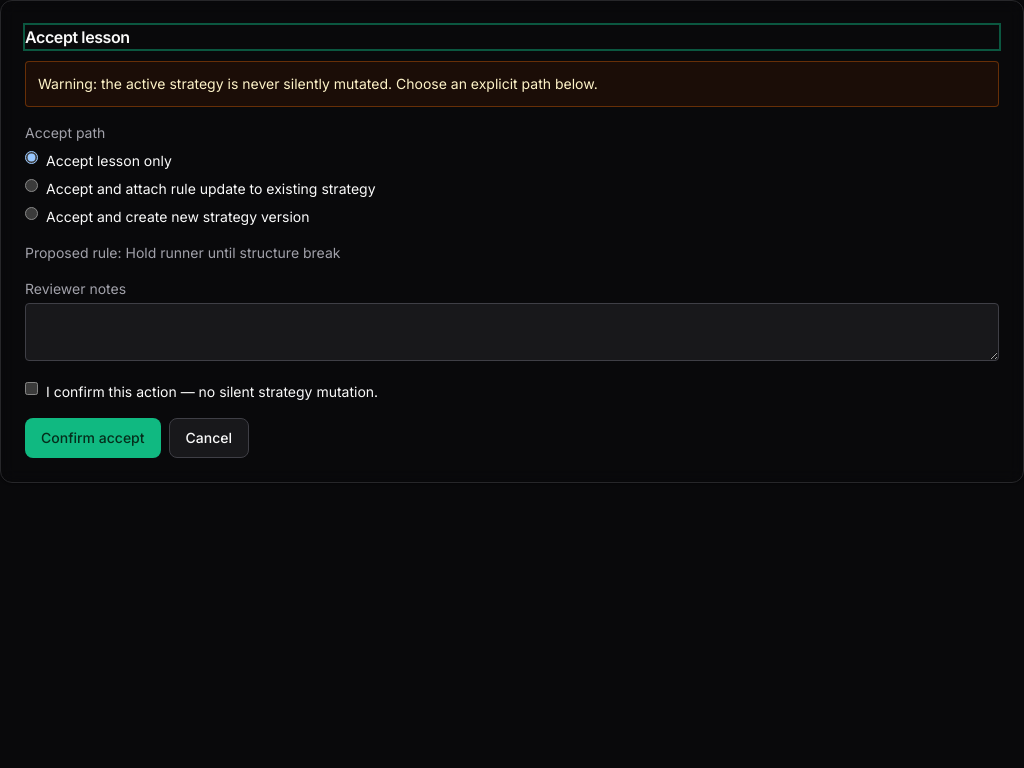
Test case: LessonAcceptPanel › exposes strategy-load failure instead of silently continuing
What coordinates should you click on to do the following:
click the radio button with test id "accept-path-attach_rule"
I would click on:
 (32, 186)
Its box is [25, 179, 38, 192].
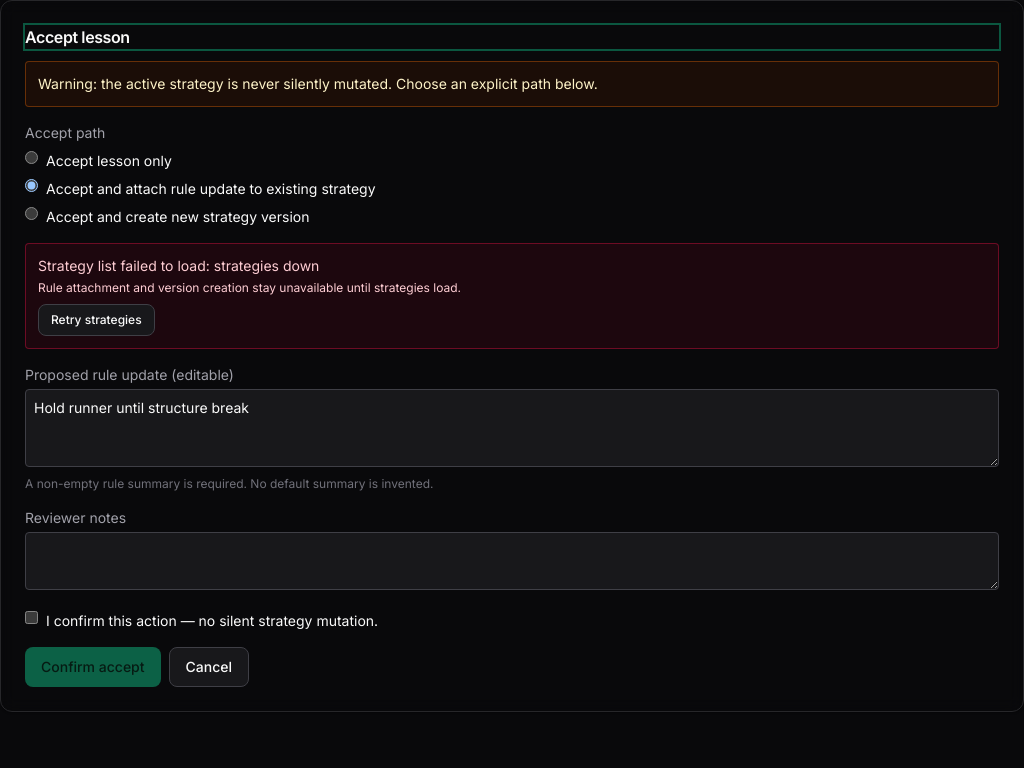
Result: the message with test id "lesson-strategies-failed" shows "Strategy list failed to load" at [38, 257, 319, 274]
Result: the button with test id "confirm-accept" is disabled at [25, 647, 160, 687]
